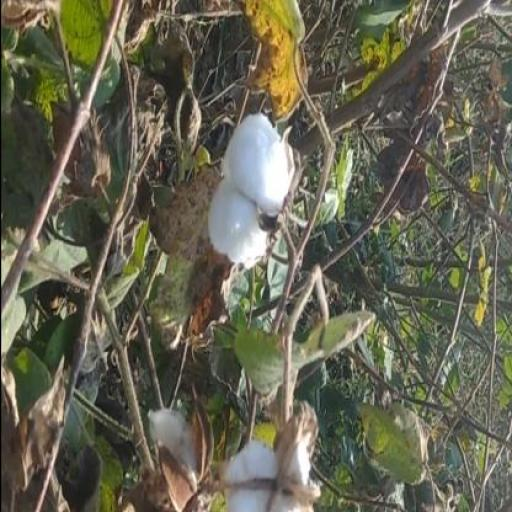cotton_ready: (198, 109, 308, 291)
